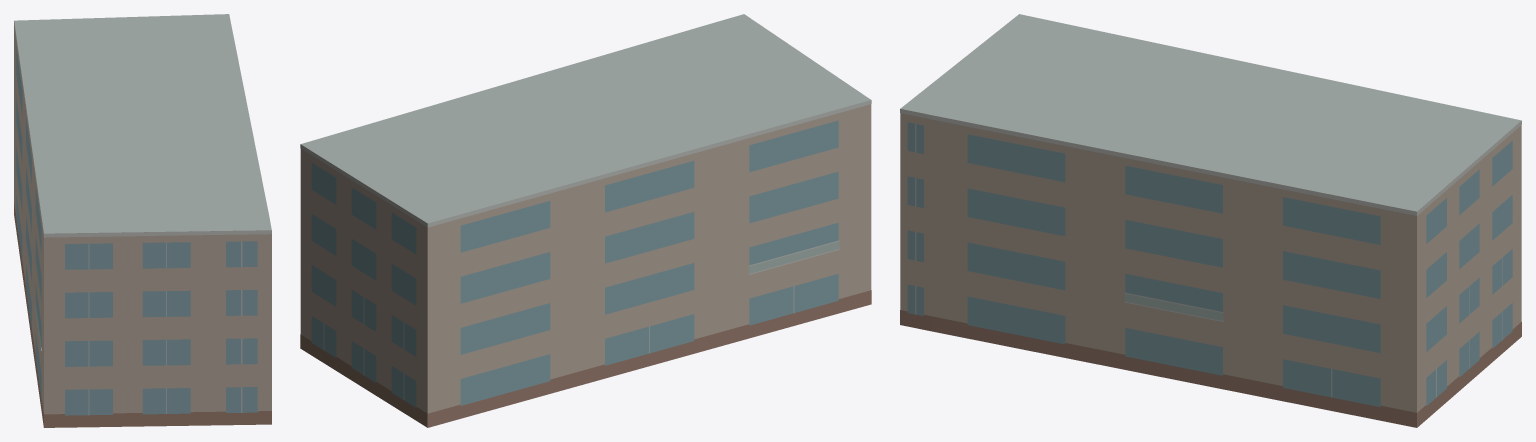
File: survey-upis-32645189.glb
3 renders of one model, left to right at view 1: azimuth 30°, elevation 25°; view 2: azimuth 150°, elevation 25°; view 3: azimuth 270°, elevation 25°, orthographic. The views are drawn at different scales.
Parts seen in each view (by area): view 1: survey-upis-32645189.tmp; view 2: survey-upis-32645189.tmp; view 3: survey-upis-32645189.tmp.
Boxes of the visible parts, x1=… form: survey-upis-32645189.tmp: x1=14, y1=14, x2=271, y2=427; survey-upis-32645189.tmp: x1=300, y1=14, x2=871, y2=427; survey-upis-32645189.tmp: x1=900, y1=14, x2=1521, y2=427.
Size of the model in its own units: 23.93 by 12.2 by 31.79.
